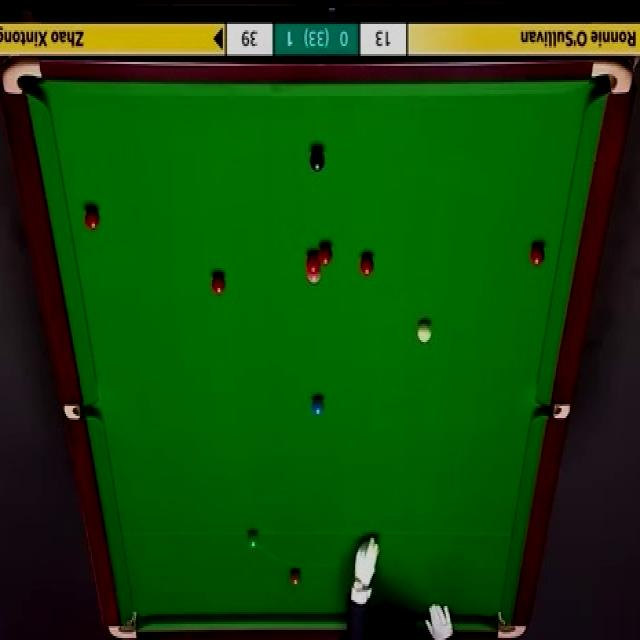black-ball: (309, 148, 325, 174)
blue-ball: (310, 396, 325, 418)
brown-ball: (289, 568, 302, 588)
green-ball: (247, 530, 260, 551)
pink-ball: (306, 270, 322, 284)
red-ball: (529, 242, 545, 268), (83, 207, 100, 229), (305, 252, 322, 273), (360, 254, 375, 276), (212, 272, 226, 295), (318, 244, 332, 264)
white-ball: (417, 319, 434, 344)
